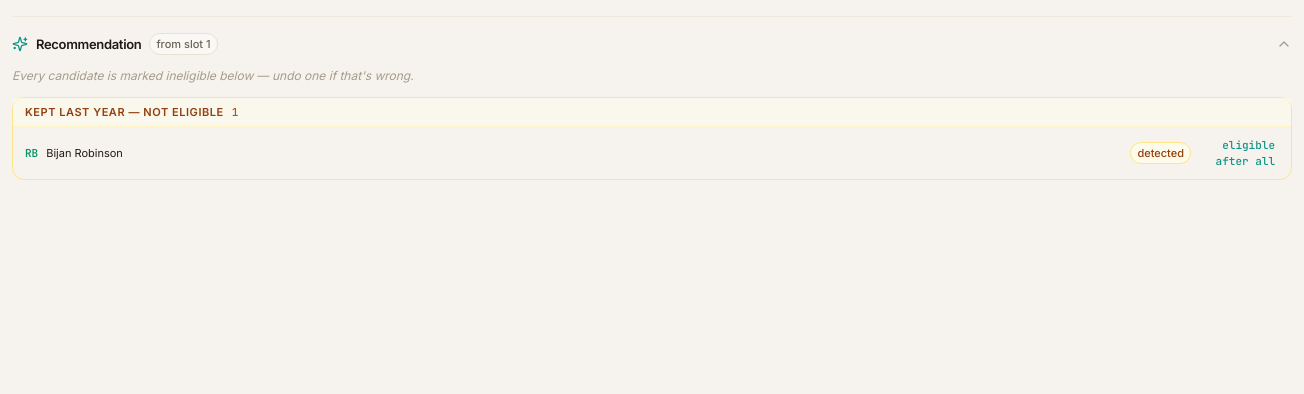
KeeperRecommendations — eligibility overrides › 'eligible after all' undoes an import's wrong ineligible flag
Click the button "eligible after all" at (1239, 153), box x1=1199 y1=135 x2=1279 y2=171
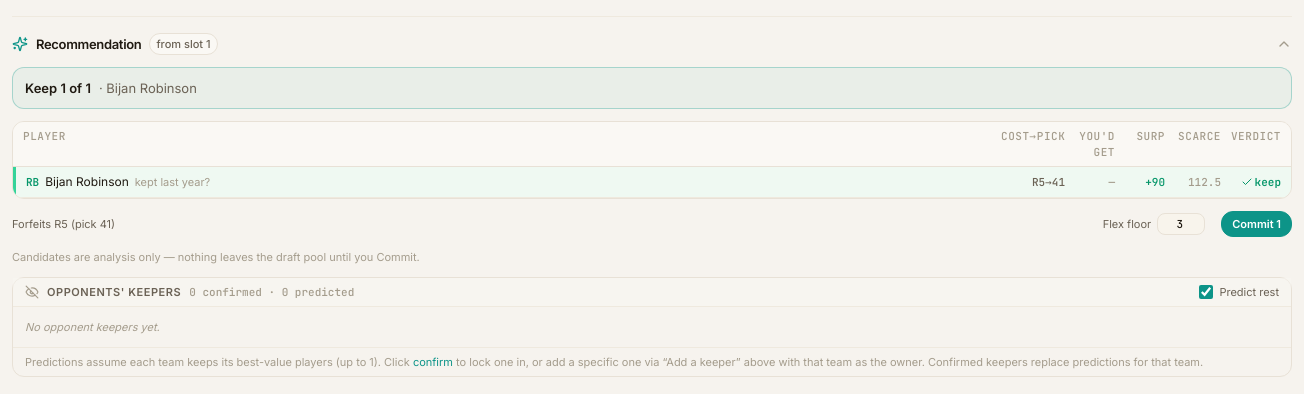
Result: the text "Kept last year — not eligible" is gone
